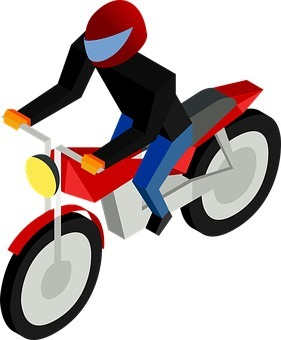motorbike: (1, 75, 281, 339)
person: (3, 7, 198, 237)
